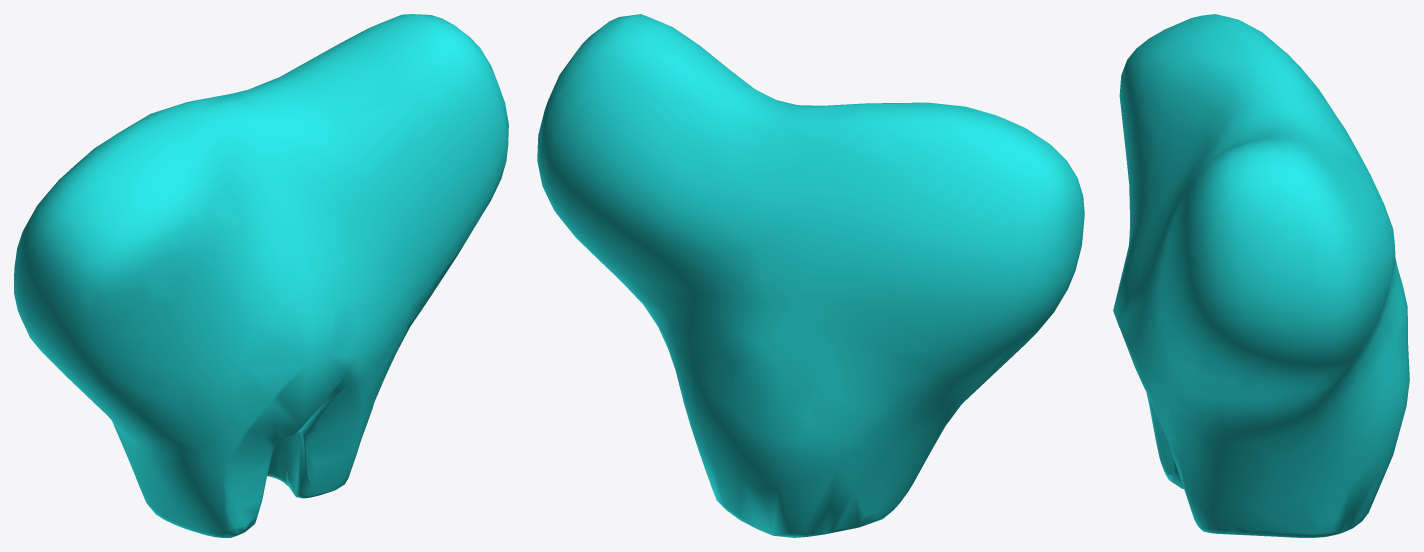
The model's file is RespiratoryBud.fbx.
3 renders of one model, left to right at view 1: azimuth 30°, elevation 25°; view 2: azimuth 150°, elevation 25°; view 3: azimuth 270°, elevation 25°, orthographic. The views are drawn at different scales.
Visible parts, largest first — view 1: Respiratory_bud; view 2: Respiratory_bud; view 3: Respiratory_bud.
Boxes of the visible parts, <box> form: Respiratory_bud: <box>14,14,508,537</box>; Respiratory_bud: <box>537,14,1084,537</box>; Respiratory_bud: <box>1113,14,1409,537</box>.
Bounding box in the file's own units: 3.45 × 2.92 × 1.73.
